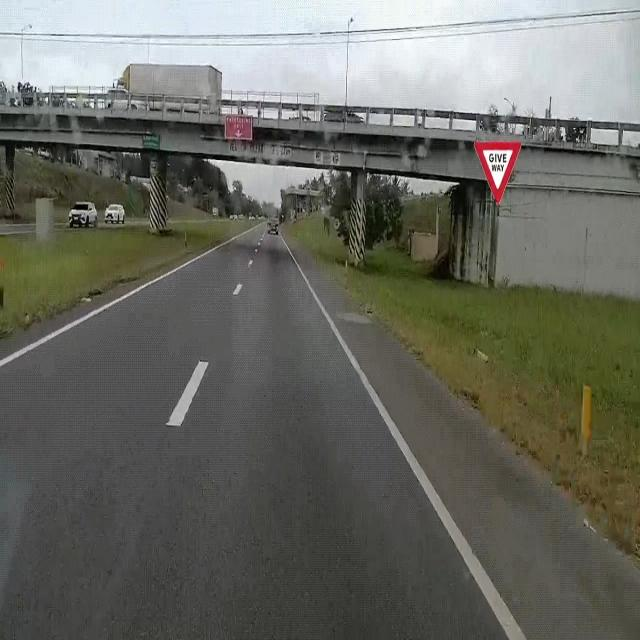Ceder-le-Passage: (469, 131, 527, 222)
